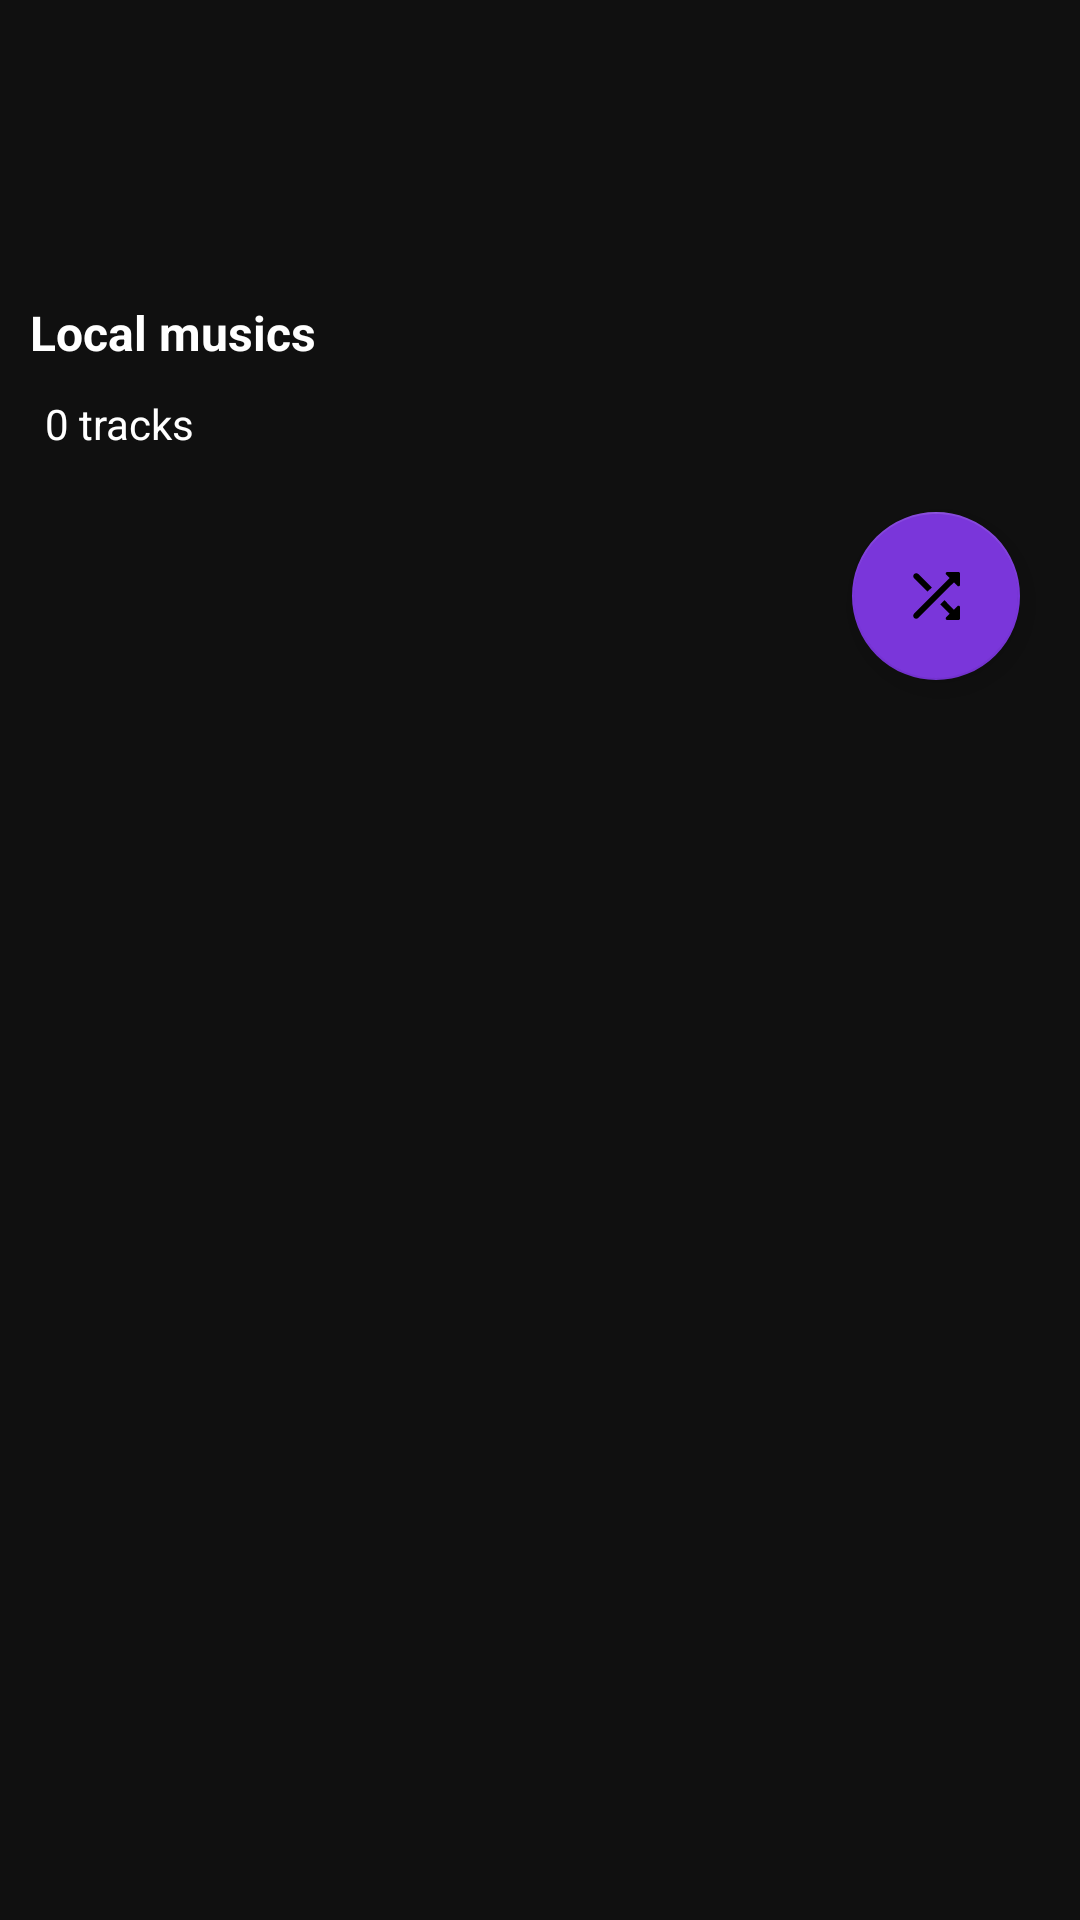

Screen size 1080px x 1920px. Icon name, then its center in pixels as (x=x, y=y):
shuffle: (x=936, y=596)
